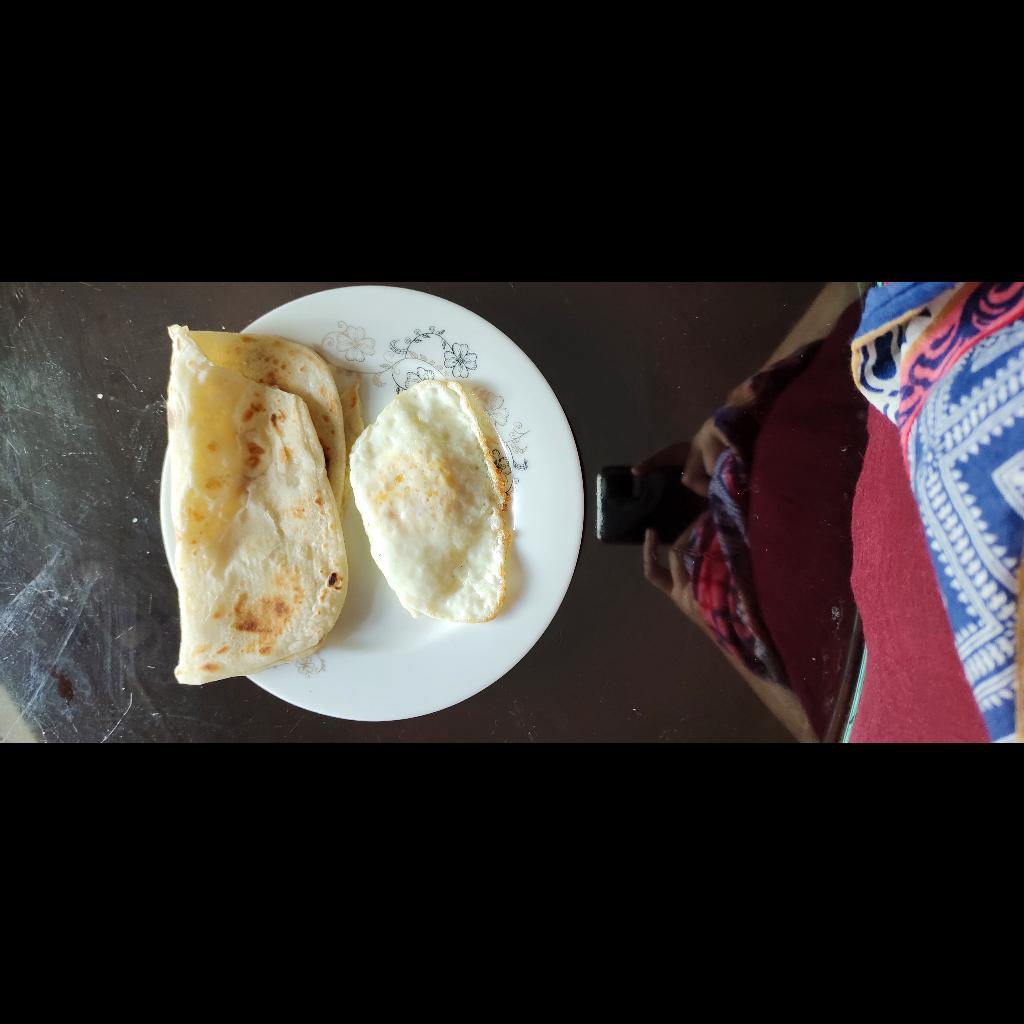egg-poached: (120, 633, 368, 791)
ruti: (56, 444, 419, 646)
